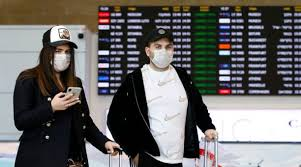with_mask: (143, 33, 177, 69), (45, 42, 77, 77)
